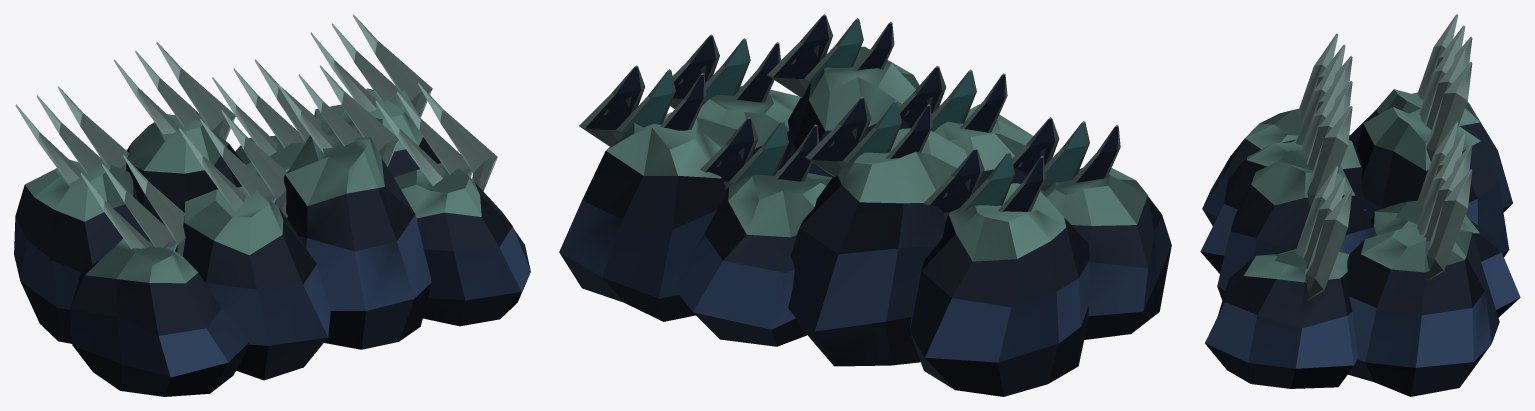
File: abyss-reef.glb
3 views of the same model, side by side, from view 1: azimuth 30°, elevation 25°; view 2: azimuth 150°, elevation 25°; view 3: azimuth 270°, elevation 25° (orthographic). The views are drawn at different scales.
Parts seen in each view (by area): view 1: abyss-reef; view 2: abyss-reef; view 3: abyss-reef.
Boxes of the visible parts, box(x1,y1,x2,y2) form: abyss-reef: box(14, 14, 530, 396); abyss-reef: box(559, 14, 1171, 396); abyss-reef: box(1200, 14, 1520, 396).
Size of the model in its own units: 12.17 by 6.03 by 8.18.
